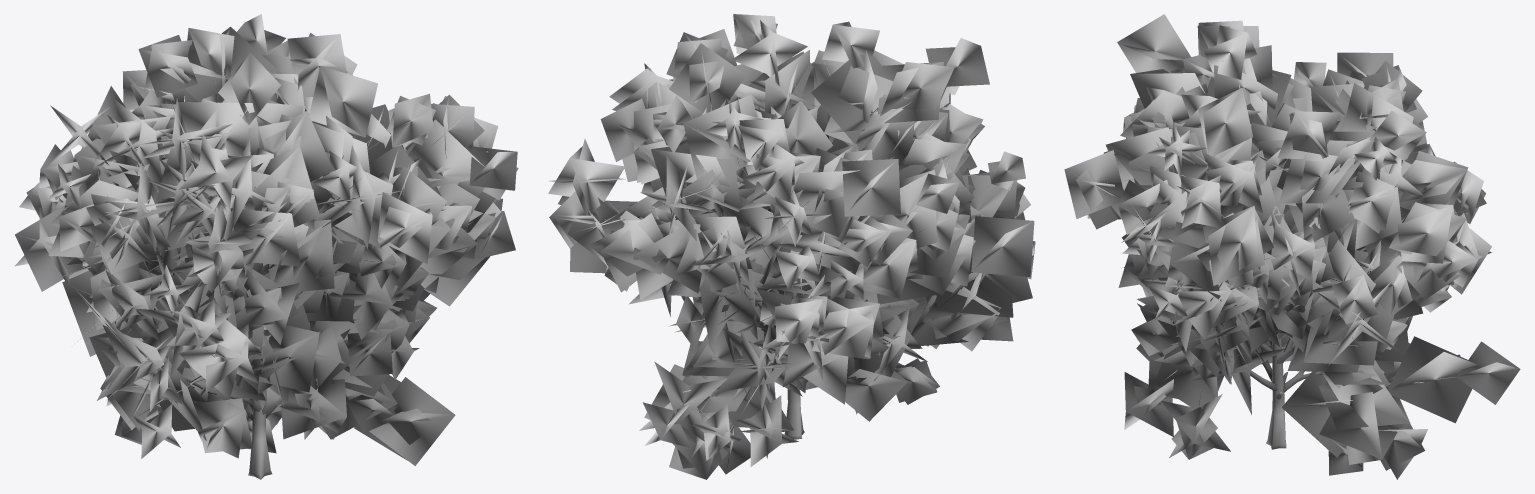
The model's file is MapleBigLeaf_B.fbx.
The picture shows the model from 3 angles, left to right: view 1: azimuth 30°, elevation 25°; view 2: azimuth 150°, elevation 25°; view 3: azimuth 270°, elevation 25°; orthographic projection. The views are drawn at different scales.
Visible parts, largest first — view 1: MapleBigLeaf_B_LOD0; view 2: MapleBigLeaf_B_LOD0; view 3: MapleBigLeaf_B_LOD0.
Part boxes in pixels (<box>): MapleBigLeaf_B_LOD0: <box>15,14,518,479</box>; MapleBigLeaf_B_LOD0: <box>548,14,1035,479</box>; MapleBigLeaf_B_LOD0: <box>1064,14,1520,479</box>.
Bounding box in the file's own units: 2655 × 2651 × 2643.
